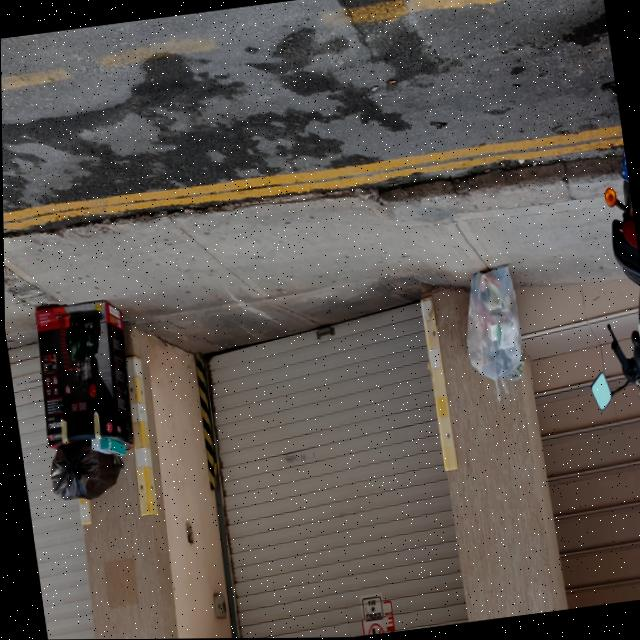Mixed Waste -Black Bag-: (45, 436, 126, 503)
Other: (27, 297, 139, 458), (88, 435, 125, 460)
Recycled Waste -Grey or Green Bag-: (456, 265, 529, 408)
